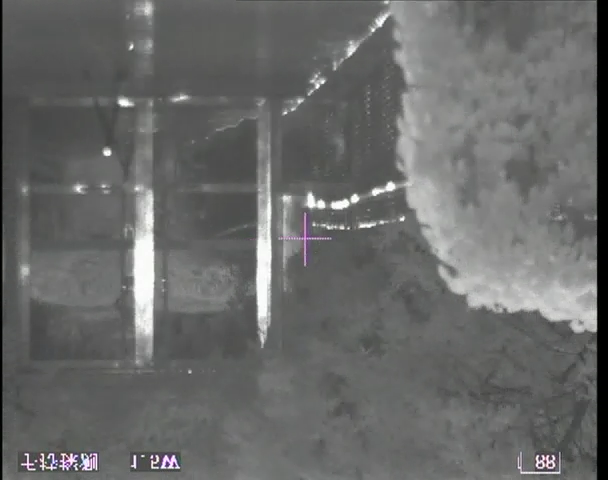my: (100, 145, 112, 157)
